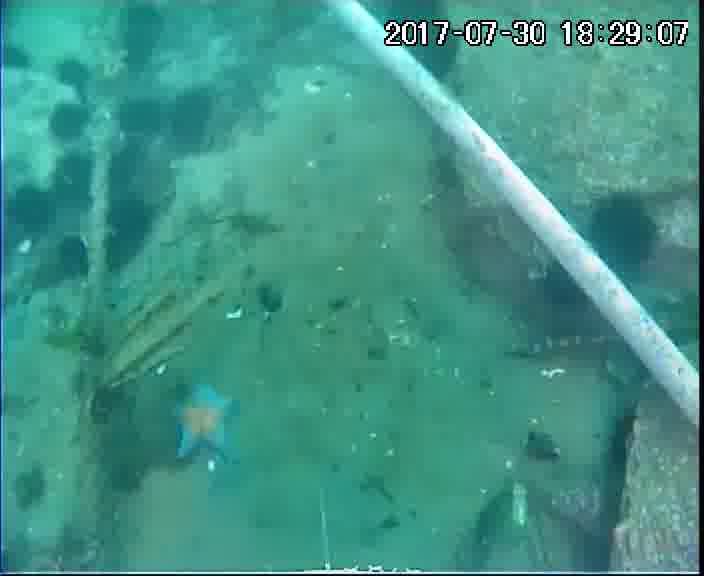echinus: (593, 192, 663, 268), (163, 88, 217, 150), (9, 185, 58, 244), (543, 259, 595, 314), (414, 25, 463, 77), (124, 4, 163, 62), (104, 198, 153, 244), (107, 142, 147, 195), (116, 97, 163, 141), (55, 157, 95, 207), (56, 234, 94, 281), (49, 102, 91, 144), (389, 1, 447, 28), (53, 57, 93, 93), (1, 47, 35, 74)
starfish: (169, 377, 236, 467)
